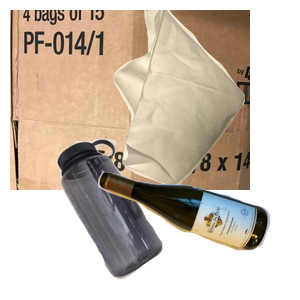cardboard: (10, 10, 250, 190)
glass: (95, 168, 300, 300)
plastic: (54, 136, 209, 300)
trash: (111, 10, 300, 190)
